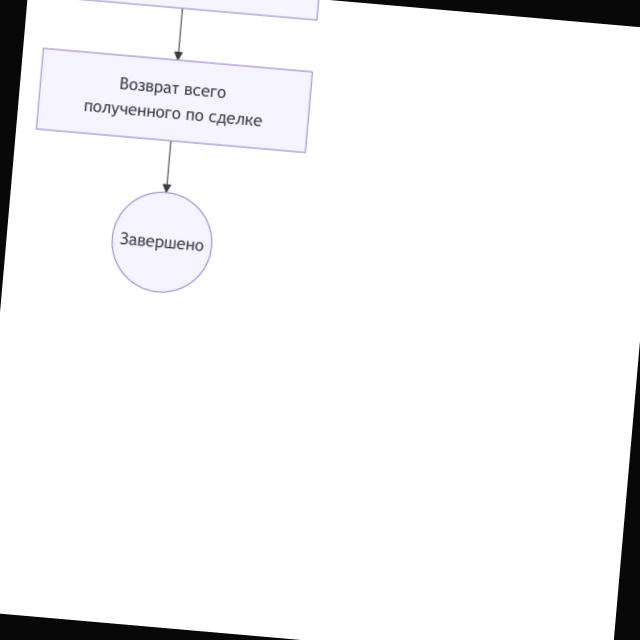arrow: (175, 9, 183, 59), (164, 142, 171, 192)
circle: (112, 192, 212, 293)
rectangle: (36, 49, 312, 152)
